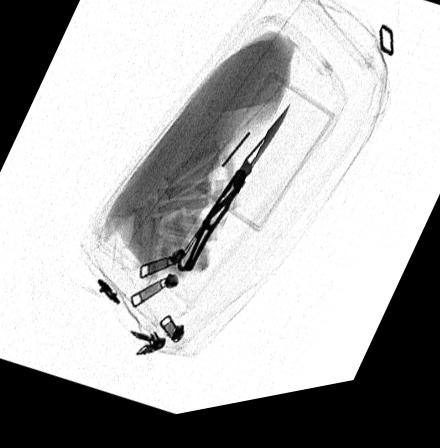Knife: (175, 112, 293, 280)
